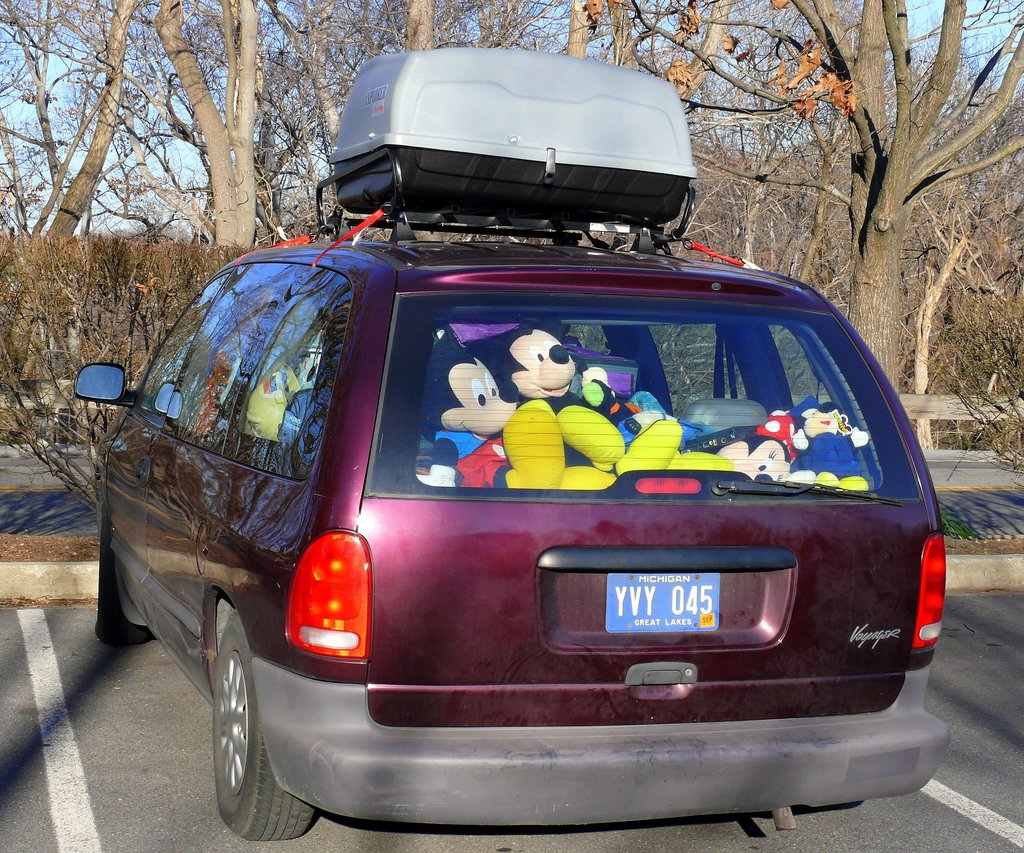Car: (95, 112, 920, 845)
